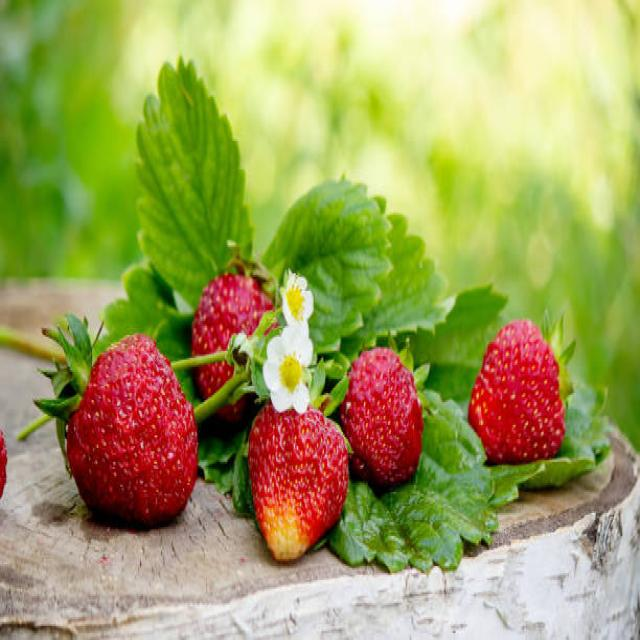Healthy Fruit: (67, 336, 197, 526), (247, 401, 349, 561), (468, 320, 565, 463), (192, 275, 276, 413), (343, 347, 424, 485)
